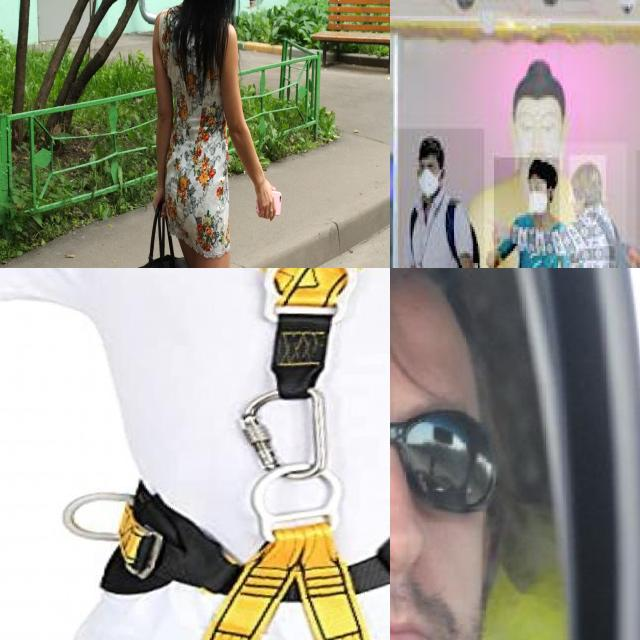Harness: (102, 268, 390, 640)
face_mask: (417, 157, 441, 196), (529, 179, 547, 213)
face_nomask: (390, 398, 496, 640), (569, 184, 590, 220)
glasses: (390, 407, 500, 513)
head_nohelmet: (569, 155, 606, 203), (419, 136, 443, 165), (528, 153, 550, 184)
person: (398, 128, 486, 268), (554, 143, 628, 268), (494, 157, 561, 268)
